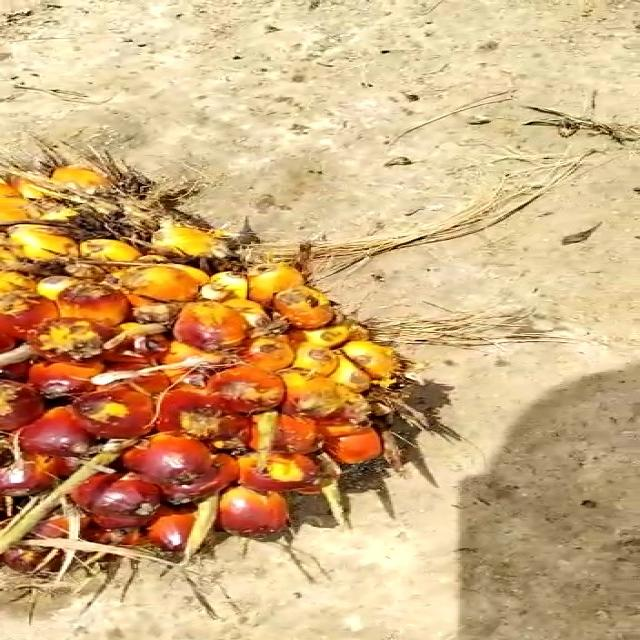palm oil: (0, 127, 437, 620)
